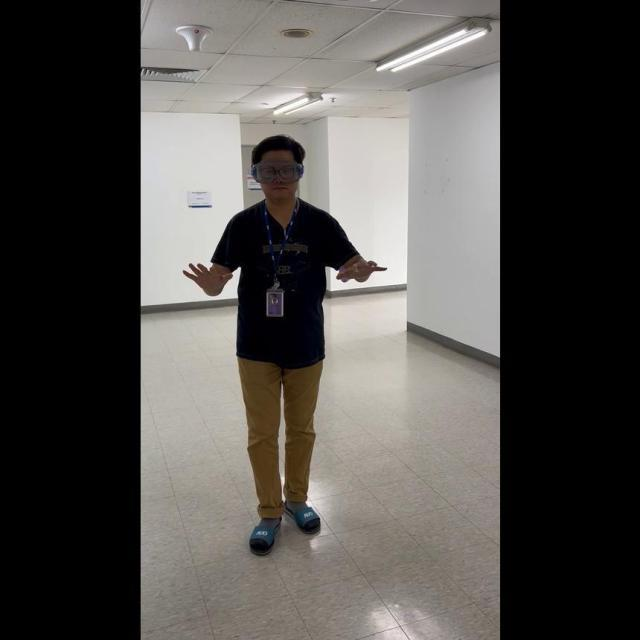bare_hand: (181, 257, 230, 295), (333, 251, 386, 284)
